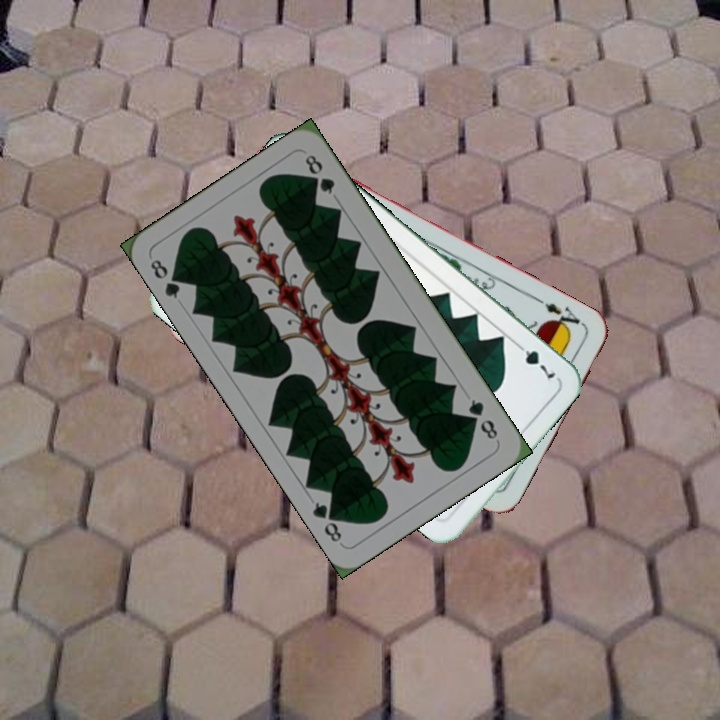EA: (540, 298, 587, 335)
G7: (510, 337, 559, 382)
G8: (146, 255, 186, 301), (464, 395, 501, 444)
